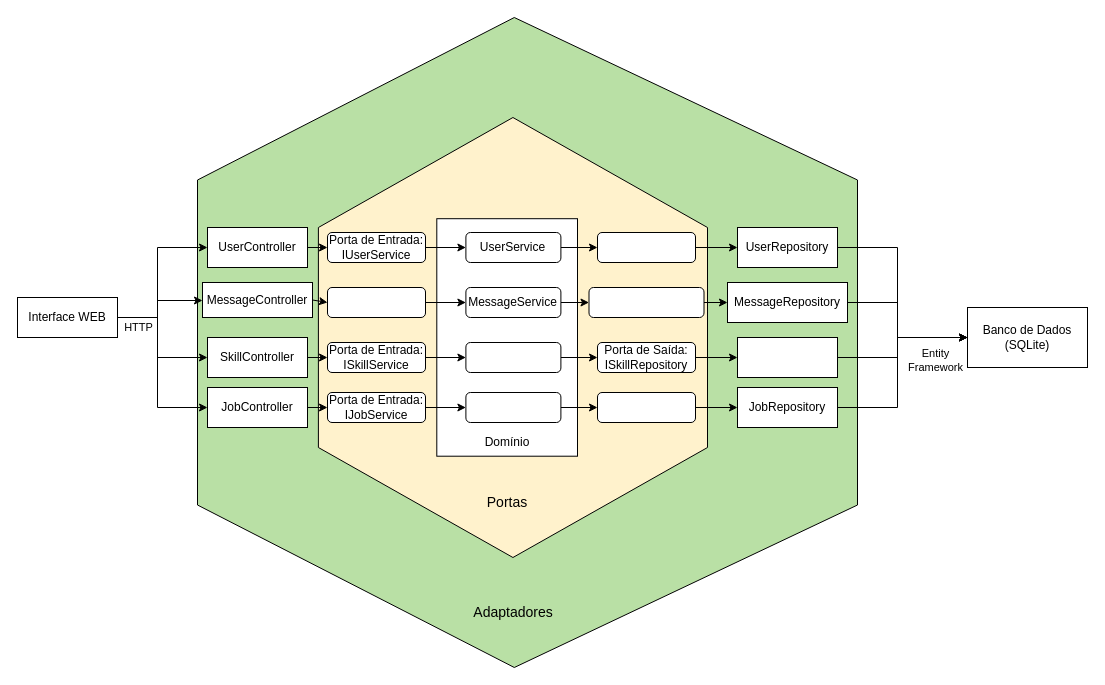
The diagram is 1105 pixels wide and 685 high, and some of its shapes have lost their labels. Here are the shapes that lost their labels. From the top down, the centre of each, then its label:
At point (646, 247): "Porta de Saída: IUserRepository".
At point (376, 302): "Porta de Entrada: IMessageService".
At point (646, 302): "Porta de Saída: IMessageRepository".
At point (513, 357): "SkillService".
At point (787, 357): "SkillRepository".
At point (513, 407): "JobService".
At point (646, 407): "Porta de Saída: IJobRepository".
